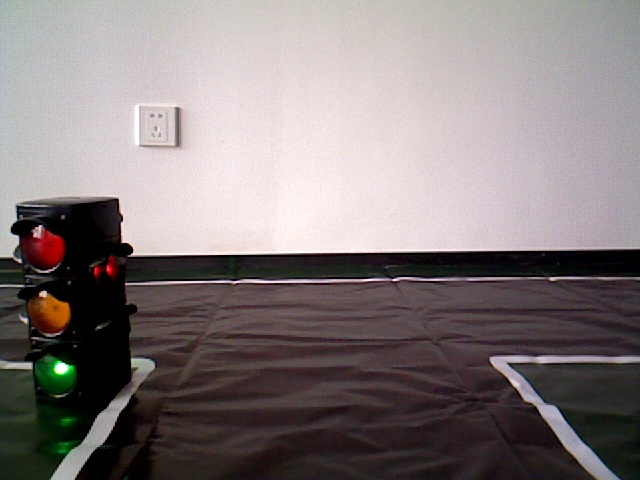green: (20, 202, 120, 382)
